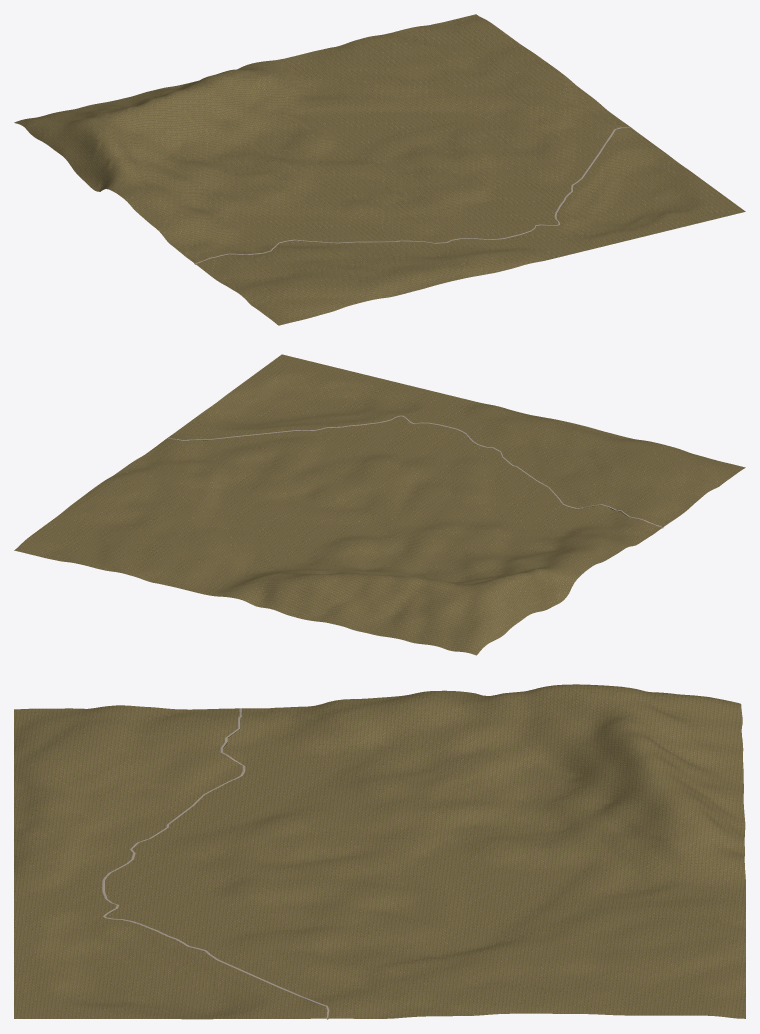
The model's file is lanscape.fbx.
3 views of the same model, one above another, from view 1: azimuth 30°, elevation 25°; view 2: azimuth 150°, elevation 25°; view 3: azimuth 270°, elevation 25° (orthographic). The views are drawn at different scales.
Parts seen in each view (by area): view 1: pPlane1, pCylinder1; view 2: pPlane1, pCylinder1; view 3: pPlane1, pCylinder1.
Part boxes in pixels (bbox=[...]): pPlane1: bbox=[14, 14, 745, 325]; pCylinder1: bbox=[194, 126, 630, 264]; pPlane1: bbox=[14, 354, 745, 655]; pCylinder1: bbox=[167, 415, 663, 528]; pPlane1: bbox=[14, 684, 745, 1019]; pCylinder1: bbox=[102, 708, 329, 1019].
Size of the model in its own units: 1000 by 77.53 by 1000.
3 materials, 3 textured.
